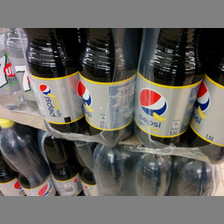soda: (132, 28, 206, 146), (80, 28, 139, 144), (22, 29, 83, 135), (1, 118, 55, 196)
